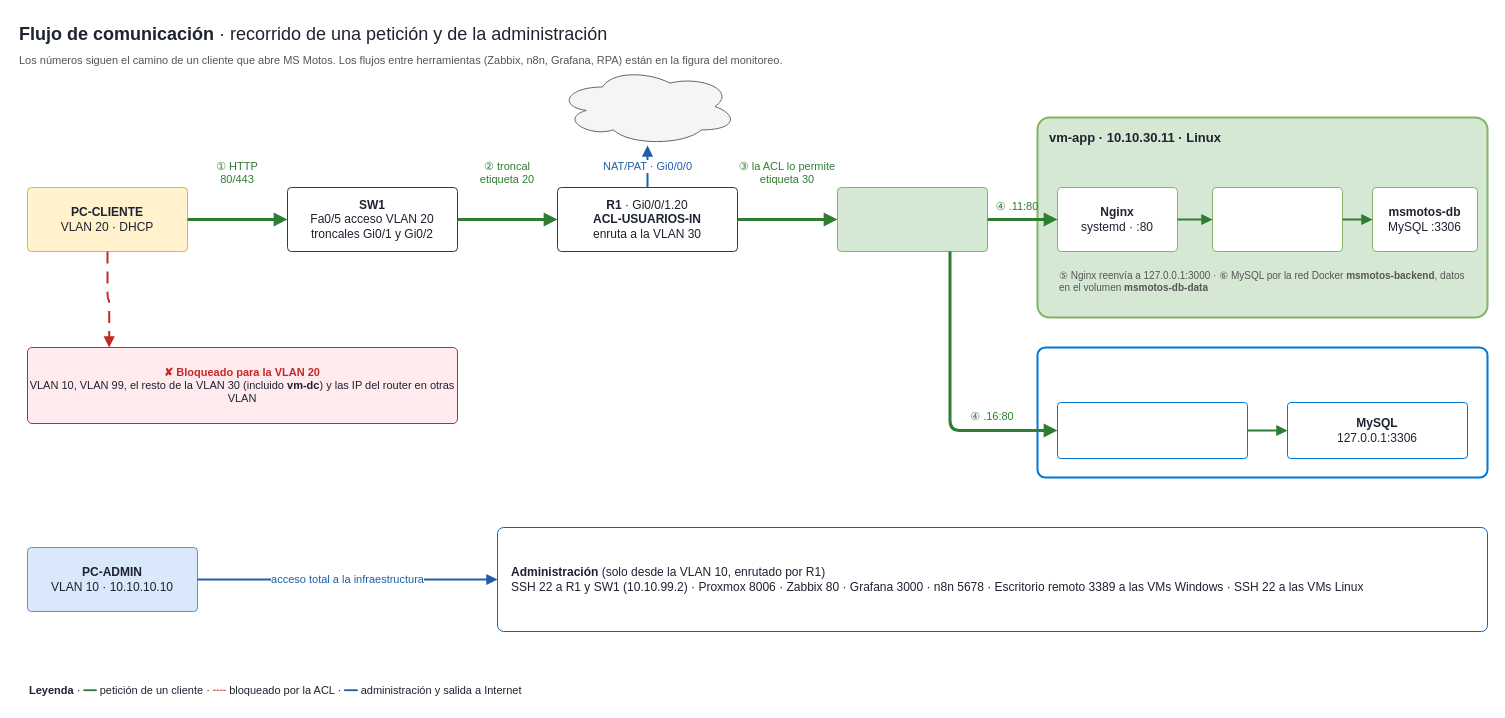
Image size: 1505x718. Some labels were removed from this diagram. Each missing label, with the box of its shape:
Internet: (556, 66, 738, 146)
msmotos-app contenedor :3000: (1212, 186, 1342, 252)
Proxmox vmbr0 · etiqueta 30: (836, 186, 988, 252)
Servicio MSMotos Node.js · :80: (1056, 402, 1248, 458)
vm-app-win · 10.10.30.16 · Windows Server: (1036, 346, 1488, 478)
